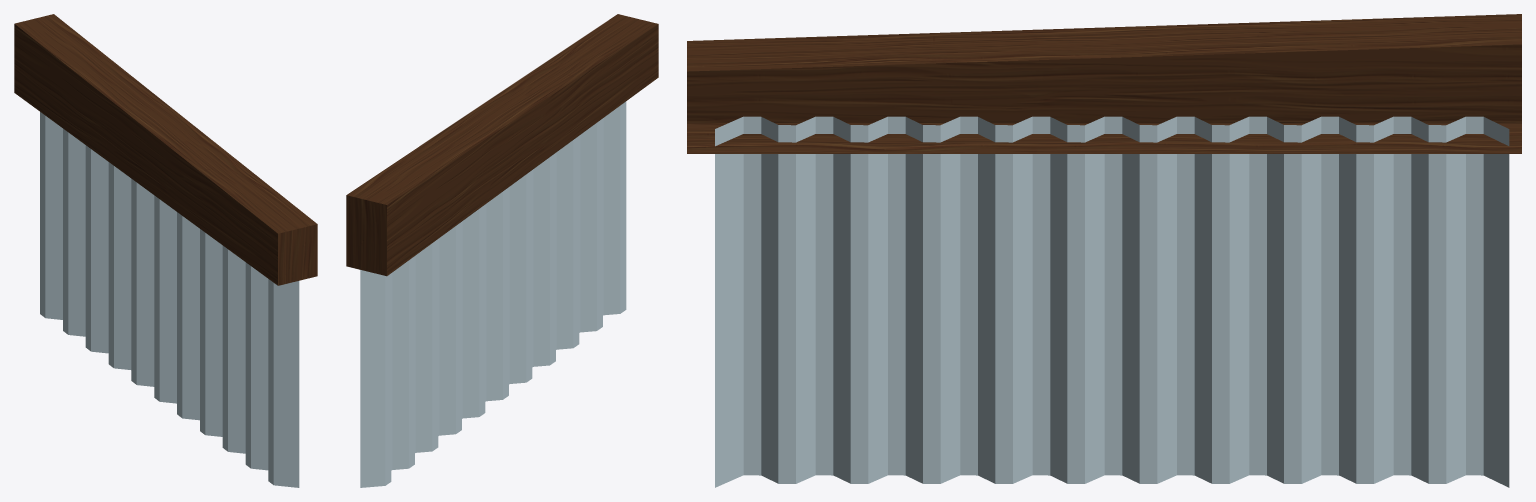
The model's file is Window.fbx.
3 views of the same model, side by side, from view 1: azimuth 30°, elevation 25°; view 2: azimuth 150°, elevation 25°; view 3: azimuth 270°, elevation 25° (orthographic). The views are drawn at different scales.
Visible parts, largest first — view 1: WindowCutrains; view 2: WindowCutrains; view 3: WindowCutrains.
Boxes of the visible parts, x1=… form: WindowCutrains: x1=14, y1=14, x2=317, y2=487; WindowCutrains: x1=346, y1=14, x2=658, y2=487; WindowCutrains: x1=687, y1=14, x2=1521, y2=487.
Bounding box in the file's own units: 2607 × 17952 × 30119.
